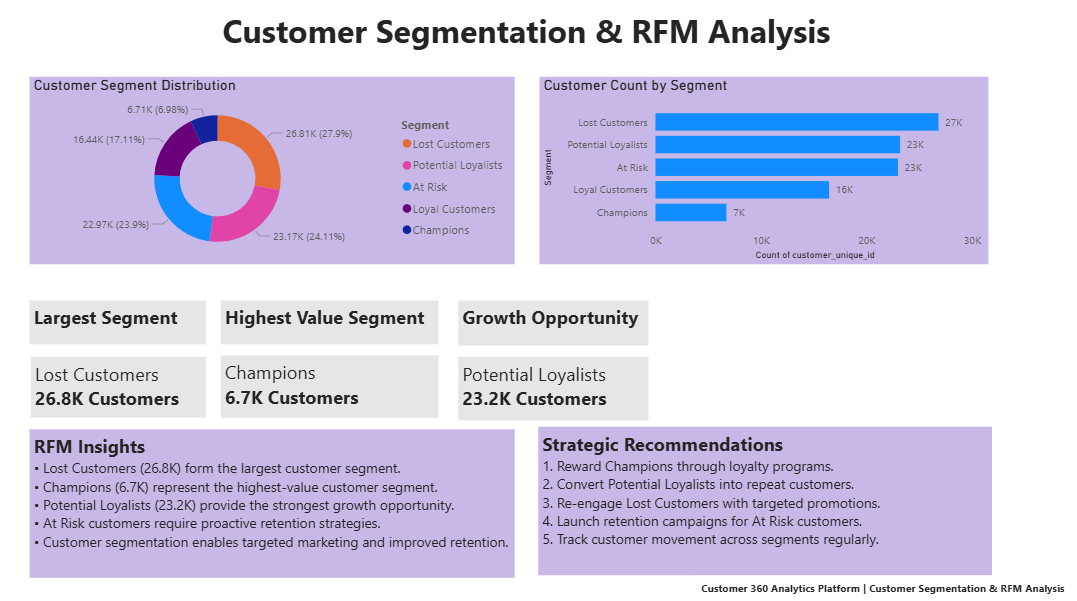

What the dashboard file says about the page in this screenshot:
{"tool":"powerbi","page":{"name":"Executive Overview","canvas":[1280,720],"ordinal":0},"visuals":[{"type":"lineChart","title":"Monthly Revenue Trend","fields":{"Y":["Sum(revenue_trend.revenue)"],"Category":["revenue_trend.month"]},"box":[16.5,304.6,300.5,307.4],"z":0},{"type":"lineChart","title":"Monthly Orders Trend","fields":{"Y":["Sum(orders_trend.orders)"],"Category":["orders_trend.month"]},"box":[336.2,301.9,303.3,308.7],"z":1000},{"type":"donutChart","title":"Customer Segment Distribution","fields":{"Category":["customer_segments.Segment"],"Y":["Sum(customer_segments.Customer_Count)"]},"box":[655.9,303.3,299.1,308.7],"z":2000},{"type":"clusteredBarChart","title":"Customer Segment Counts","fields":{"Category":["customer_segments.Segment"],"Y":["Sum(customer_segments.Customer_Count)"]},"box":[978.4,300.5,292.3,310.1],"z":3000},{"type":"textbox","box":[260.7,0,694.3,61.7],"z":4000},{"type":"textbox","box":[381.5,61.7,452.8,38.4],"z":5000},{"type":"cardVisual","fields":{"Data":["Sum(kpi_summary.Value)"],"Rows":["kpi_summary.Metric"]},"box":[85.1,107,263.5,148.2],"z":6000},{"type":"cardVisual","fields":{"Data":["Sum(kpi_summary.Value)"],"Rows":["kpi_summary.Metric"]},"box":[367.8,107,271.7,148.2],"z":7000},{"type":"cardVisual","fields":{"Data":["Sum(kpi_summary.Value)"],"Rows":["kpi_summary.Metric"]},"box":[665.5,107,279.9,148.2],"z":8000},{"type":"cardVisual","fields":{"Data":["Sum(kpi_summary.Value)"],"Rows":["kpi_summary.Metric"]},"box":[964.7,107,288.2,148.2],"z":9000}]}

Visuals, with their boxes in screenshot pixels (x1, y1, x2, y2), scaled from the page's 1280x720 canvas onto the 1077x601 screenshot:
"Monthly Revenue Trend" lineChart: bbox=(14, 254, 267, 511)
"Monthly Orders Trend" lineChart: bbox=(283, 252, 538, 510)
"Customer Segment Distribution" donutChart: bbox=(552, 253, 804, 511)
"Customer Segment Counts" clusteredBarChart: bbox=(823, 251, 1069, 510)
textbox: bbox=(219, 0, 804, 52)
textbox: bbox=(321, 52, 702, 84)
cardVisual - Sum(kpi_summary.Value) x kpi_summary.Metric: bbox=(72, 89, 293, 213)
cardVisual - Sum(kpi_summary.Value) x kpi_summary.Metric: bbox=(309, 89, 538, 213)
cardVisual - Sum(kpi_summary.Value) x kpi_summary.Metric: bbox=(560, 89, 795, 213)
cardVisual - Sum(kpi_summary.Value) x kpi_summary.Metric: bbox=(812, 89, 1054, 213)
